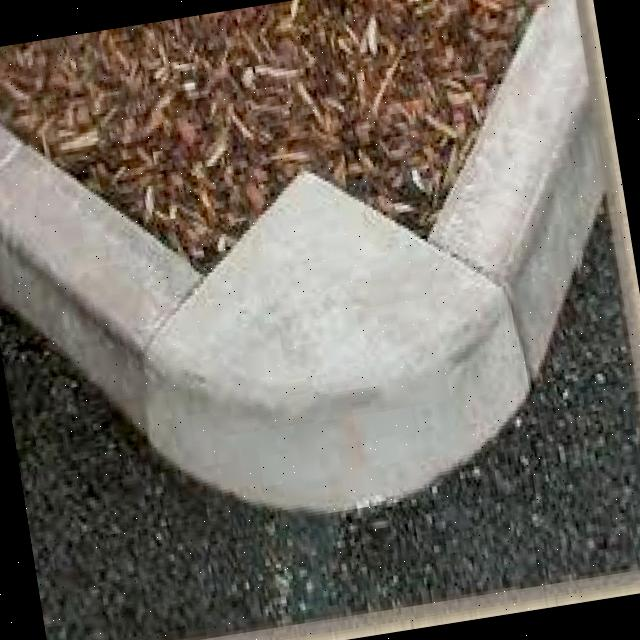curb: (58, 176, 555, 581), (445, 46, 625, 376), (1, 77, 158, 356)
